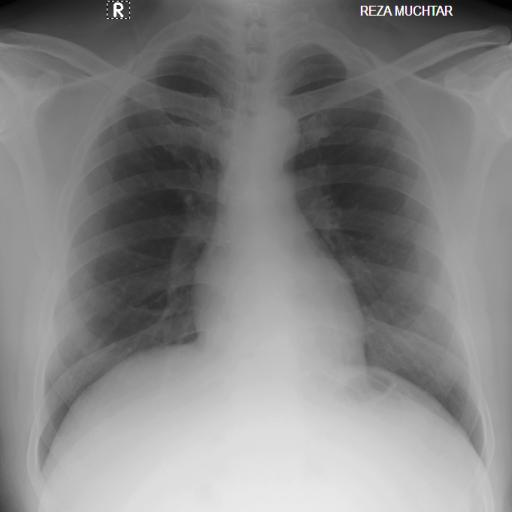normal: (34, 6, 494, 472)
